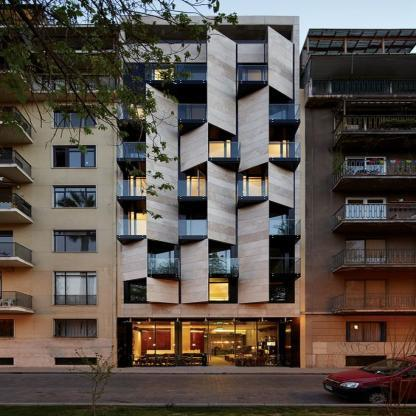Balcony: (146, 65, 207, 80), (268, 220, 301, 236), (208, 142, 240, 158), (269, 258, 301, 274), (269, 142, 300, 158), (269, 104, 300, 120), (148, 258, 179, 274), (238, 181, 268, 197), (237, 65, 267, 81), (208, 258, 238, 274), (117, 220, 146, 236), (117, 181, 146, 197), (117, 142, 146, 158), (178, 104, 207, 120), (117, 104, 146, 120), (179, 181, 207, 197), (179, 220, 207, 236)
Building Outline: (117, 15, 300, 368)
Door: (154, 70, 170, 93), (209, 141, 225, 164), (247, 70, 263, 93), (135, 176, 150, 199), (248, 176, 263, 199), (267, 250, 282, 273), (192, 212, 207, 235), (192, 176, 207, 199), (267, 212, 282, 235), (267, 102, 282, 125), (135, 212, 150, 235), (155, 251, 170, 274), (211, 250, 226, 273), (267, 141, 282, 164), (136, 141, 151, 164), (136, 103, 151, 126), (192, 103, 207, 126)
Facade: (117, 15, 300, 368)
Floor Slab: (116, 274, 301, 277), (116, 197, 301, 200), (116, 158, 301, 161), (116, 120, 301, 123), (116, 236, 301, 239), (117, 304, 300, 307), (117, 80, 299, 83)
Glass Wall: (132, 321, 279, 366)
Pillar: (146, 83, 178, 245), (207, 25, 237, 135), (238, 200, 269, 304), (238, 85, 268, 172), (207, 160, 236, 245), (268, 26, 293, 100), (181, 239, 209, 304), (180, 122, 208, 172), (268, 162, 294, 208), (122, 239, 147, 282), (147, 277, 178, 304)
Window: (125, 25, 293, 44), (128, 283, 147, 301), (269, 283, 288, 301), (209, 283, 228, 301), (170, 251, 174, 274), (242, 70, 246, 93), (227, 140, 230, 164), (283, 101, 286, 125), (283, 140, 286, 164), (243, 176, 246, 199), (131, 212, 134, 235), (283, 250, 286, 273), (187, 176, 190, 199), (283, 212, 286, 235), (187, 212, 190, 235), (227, 250, 230, 273), (131, 176, 134, 199), (131, 141, 134, 164), (131, 103, 134, 126), (187, 103, 190, 126)
